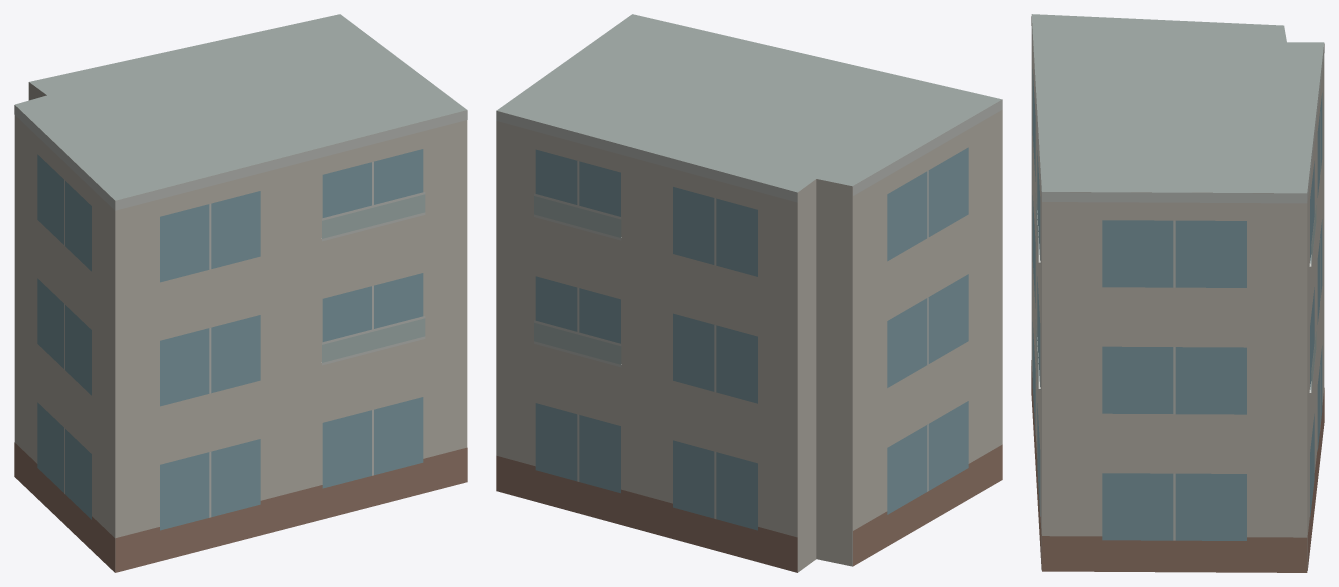
File: survey-upis-32825004.glb
3 views of the same model, side by side, from view 1: azimuth 30°, elevation 25°; view 2: azimuth 150°, elevation 25°; view 3: azimuth 270°, elevation 25° (orthographic). The views are drawn at different scales.
Parts seen in each view (by area): view 1: survey-upis-32825004.tmp; view 2: survey-upis-32825004.tmp; view 3: survey-upis-32825004.tmp.
Boxes of the visible parts, bbox=[...] form: survey-upis-32825004.tmp: bbox=[14, 14, 467, 572]; survey-upis-32825004.tmp: bbox=[496, 14, 1002, 572]; survey-upis-32825004.tmp: bbox=[1031, 14, 1324, 572].
Size of the model in its own units: 9.28 by 9.15 by 6.41.
